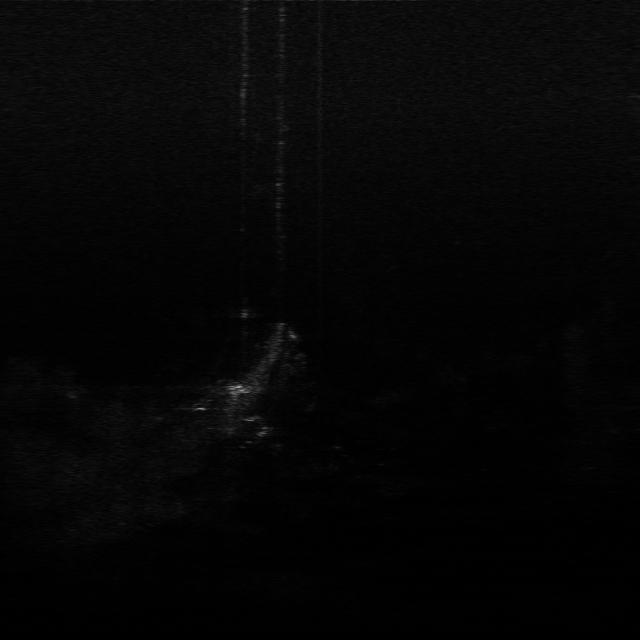rov: (222, 380, 252, 401)
